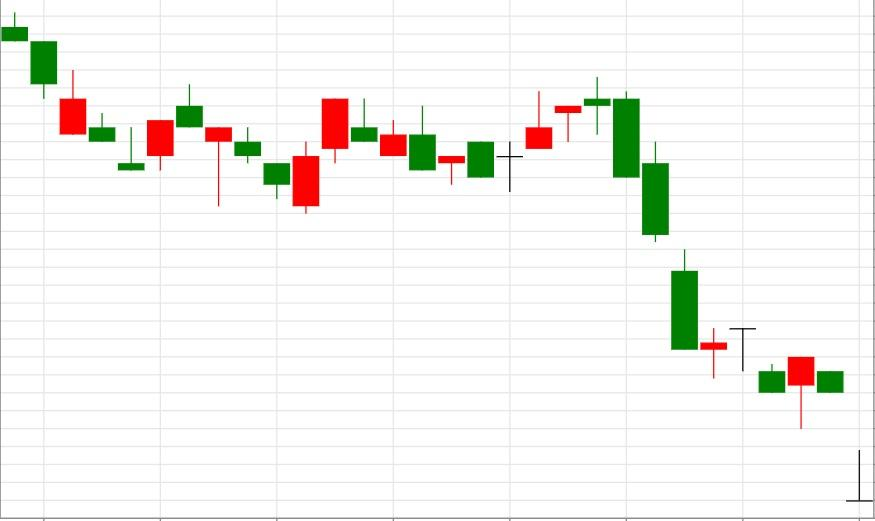bullish_engulfing_rise: (175, 84, 320, 214)
